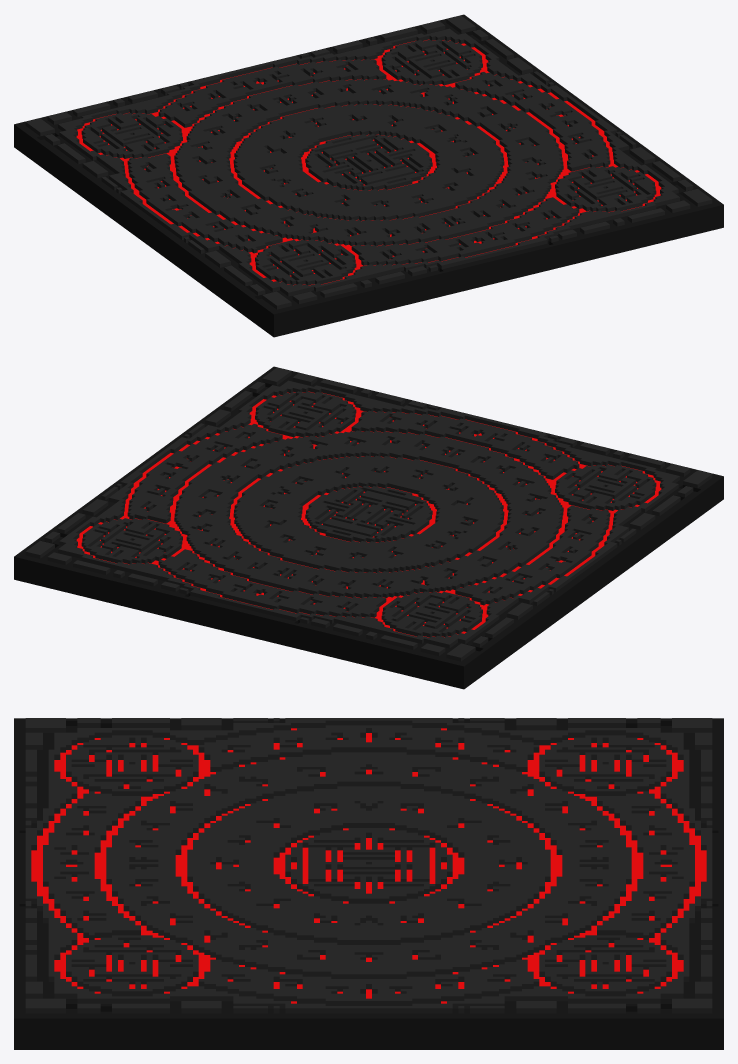
Rendered from GiantRuneFloor1.obj.
The picture shows the model from 3 angles, top to bottom: view 1: azimuth 30°, elevation 25°; view 2: azimuth 150°, elevation 25°; view 3: azimuth 270°, elevation 25°; orthographic projection. The views are drawn at different scales.
Bounding box in the file's own units: 123 × 7 × 123.
Materials: 1 (1 with a texture image).
